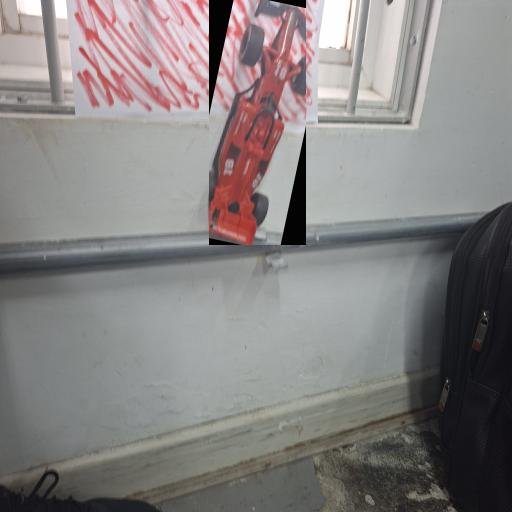carro: (208, 0, 305, 244)
